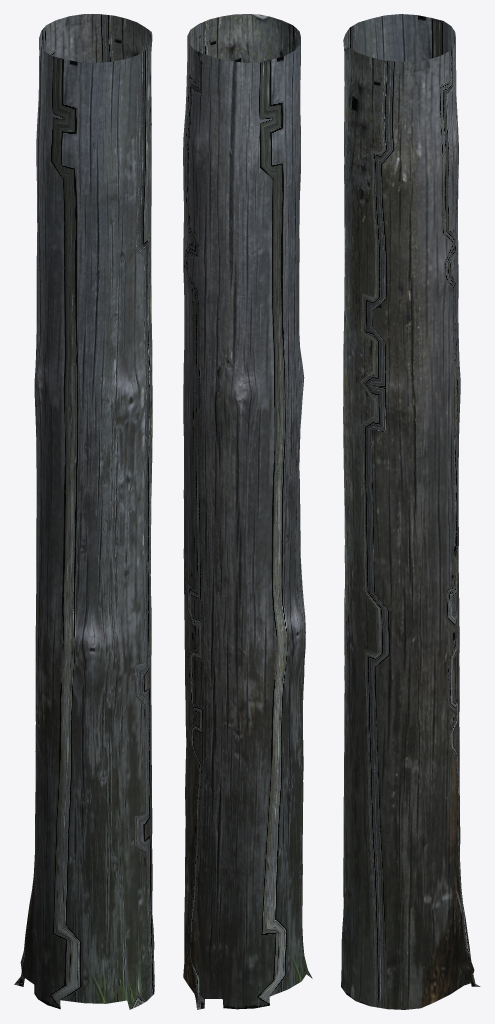
File: NaturalWoodenPost.fbx
The picture shows the model from 3 angles, left to right: view 1: azimuth 90°, elevation 25°; view 2: azimuth 150°, elevation 25°; view 3: azimuth 270°, elevation 25°; orthographic projection.
Parts seen in each view (by area): view 1: Section_of_a_Wooden_Post_remesh; view 2: Section_of_a_Wooden_Post_remesh; view 3: Section_of_a_Wooden_Post_remesh.
Boxes of the visible parts, left/top/right/bottom form: Section_of_a_Wooden_Post_remesh: left=14, top=14, right=154, bottom=1009; Section_of_a_Wooden_Post_remesh: left=183, top=14, right=312, bottom=1009; Section_of_a_Wooden_Post_remesh: left=341, top=14, right=480, bottom=1009.
Bounding box in the file's own units: 22.71 × 188 × 25.21.
Materials: 1 (1 with a texture image).
